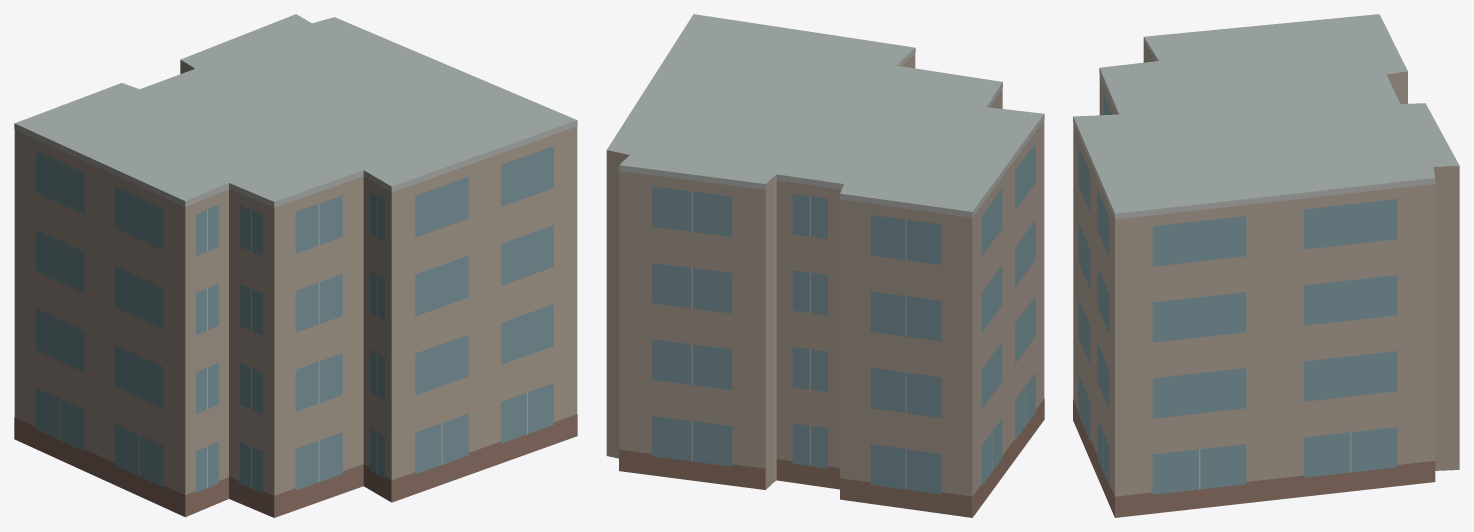
File: survey-upis-32624509.glb
3 views of the same model, side by side, from view 1: azimuth 30°, elevation 25°; view 2: azimuth 150°, elevation 25°; view 3: azimuth 270°, elevation 25° (orthographic). The views are drawn at different scales.
Visible parts, largest first — view 1: survey-upis-32624509.tmp; view 2: survey-upis-32624509.tmp; view 3: survey-upis-32624509.tmp.
Part boxes in pixels (<box>): survey-upis-32624509.tmp: <box>14,14,577,517</box>; survey-upis-32624509.tmp: <box>606,14,1044,517</box>; survey-upis-32624509.tmp: <box>1073,14,1459,517</box>.
Bounding box in the file's own units: 18.05 × 12.8 × 14.76.
